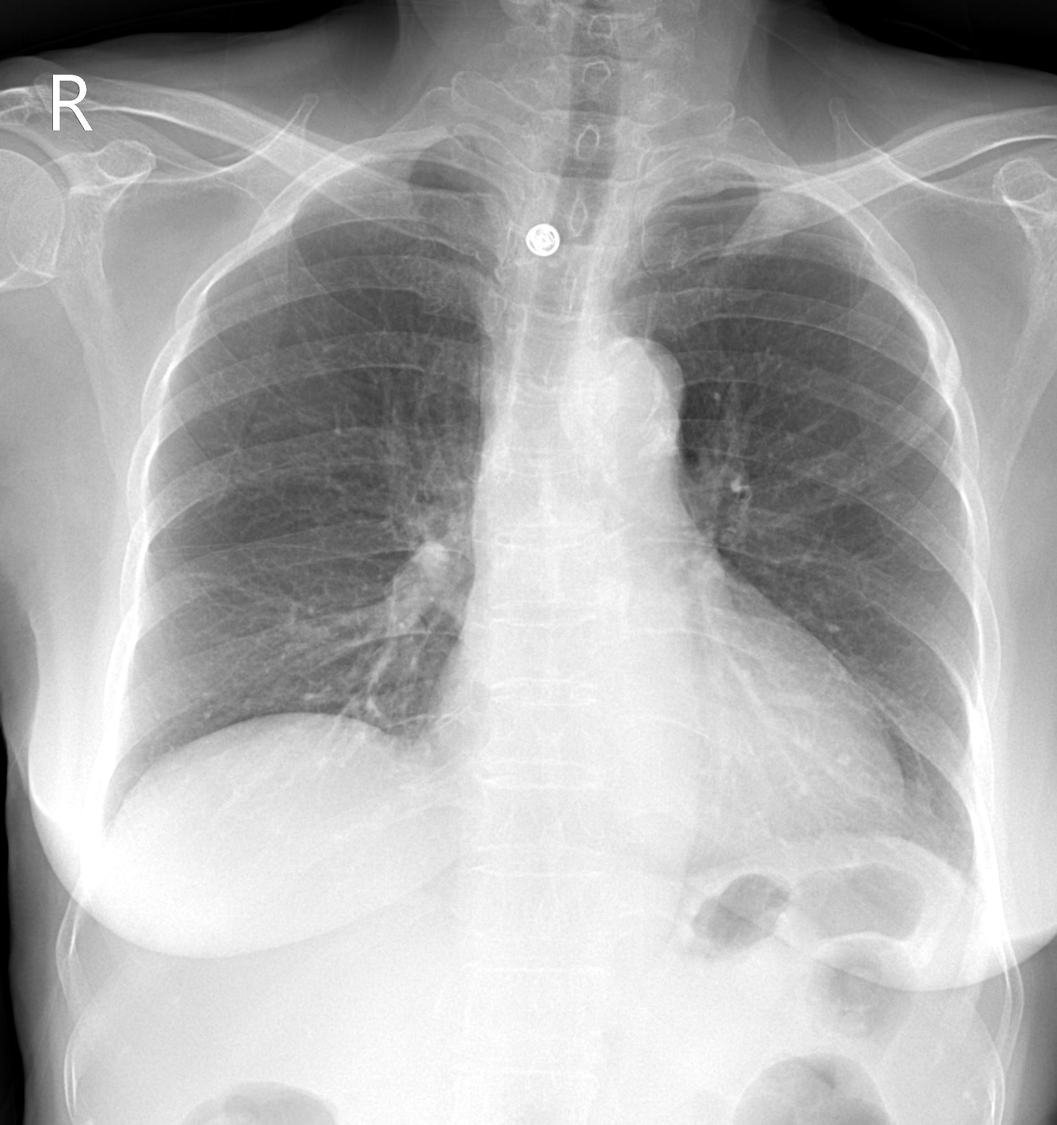Cardiomegaly: (425, 650, 909, 836)
